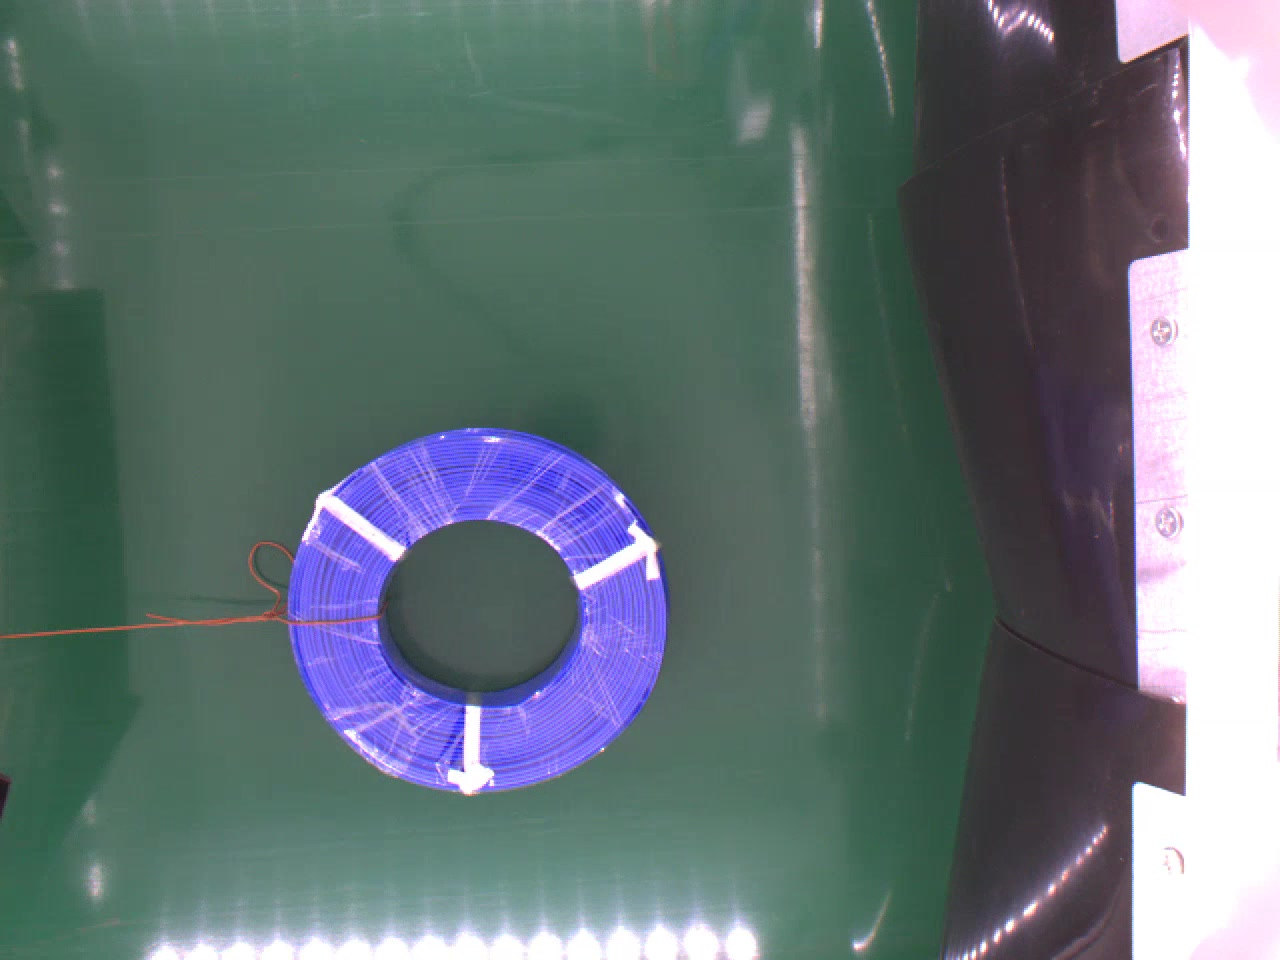blue: (281, 421, 675, 793)
